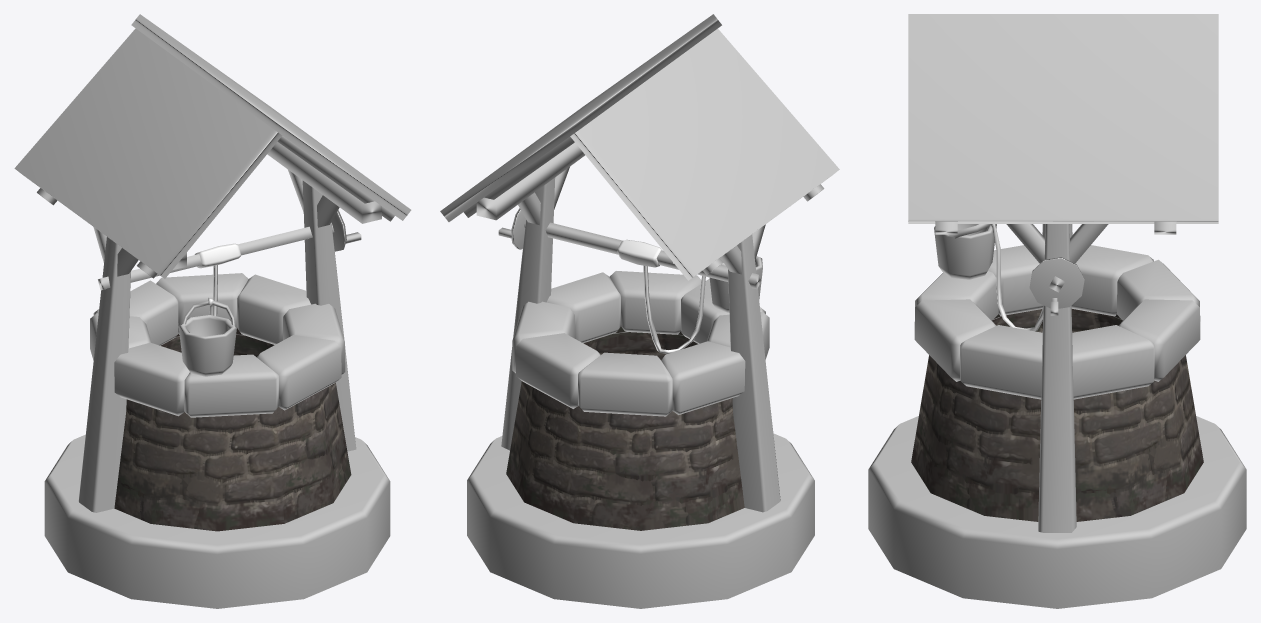
The model's file is Well.fbx.
3 renders of one model, left to right at view 1: azimuth 30°, elevation 25°; view 2: azimuth 150°, elevation 25°; view 3: azimuth 270°, elevation 25°, orthographic. The views are drawn at different scales.
Visible parts, largest first — view 1: Mesh; view 2: Mesh; view 3: Mesh.
Part boxes in pixels (<box>): Mesh: <box>14,14,411,608</box>; Mesh: <box>440,14,839,608</box>; Mesh: <box>868,14,1246,608</box>.
Bounding box in the file's own units: 205 × 307 × 205.
